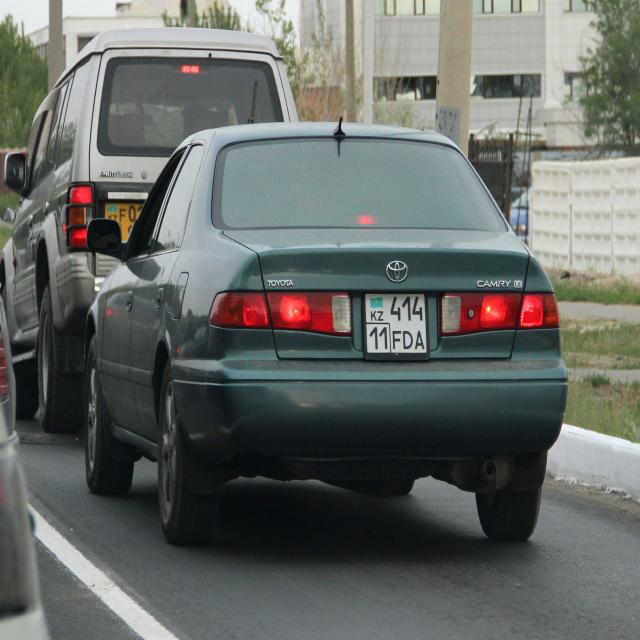car: (81, 117, 568, 546), (0, 26, 299, 434)
license: (362, 292, 430, 361)
